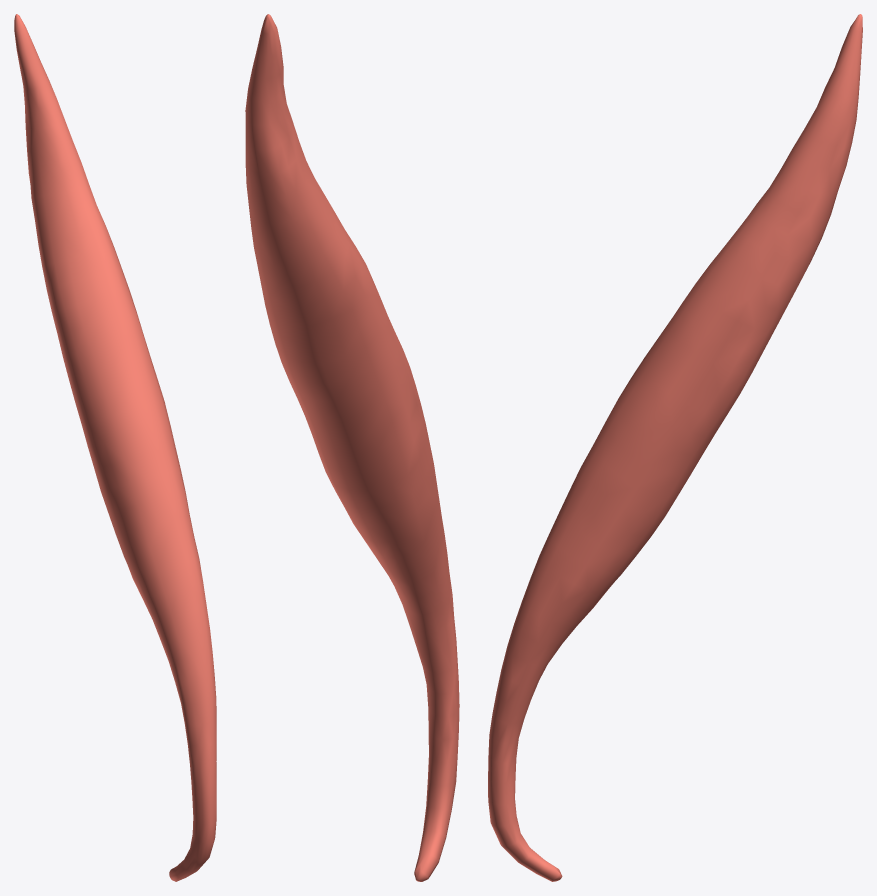
Rendered from M_biceps.glb.
3 renders of one model, left to right at view 1: azimuth 30°, elevation 25°; view 2: azimuth 150°, elevation 25°; view 3: azimuth 270°, elevation 25°, orthographic. The views are drawn at different scales.
Visible parts, largest first — view 1: M_biceps.obj; view 2: M_biceps.obj; view 3: M_biceps.obj.
Part boxes in pixels (x1,y1,x2,y2): M_biceps.obj: (14,14,216,881); M_biceps.obj: (245,14,459,881); M_biceps.obj: (488,14,862,881).
Size of the model in its own units: 0.000588 by 0.00564 by 0.00224.
